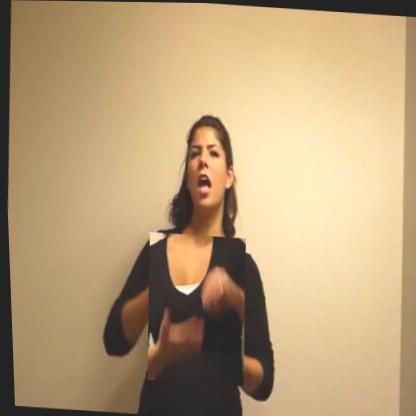Expensive: (140, 231, 248, 385)
